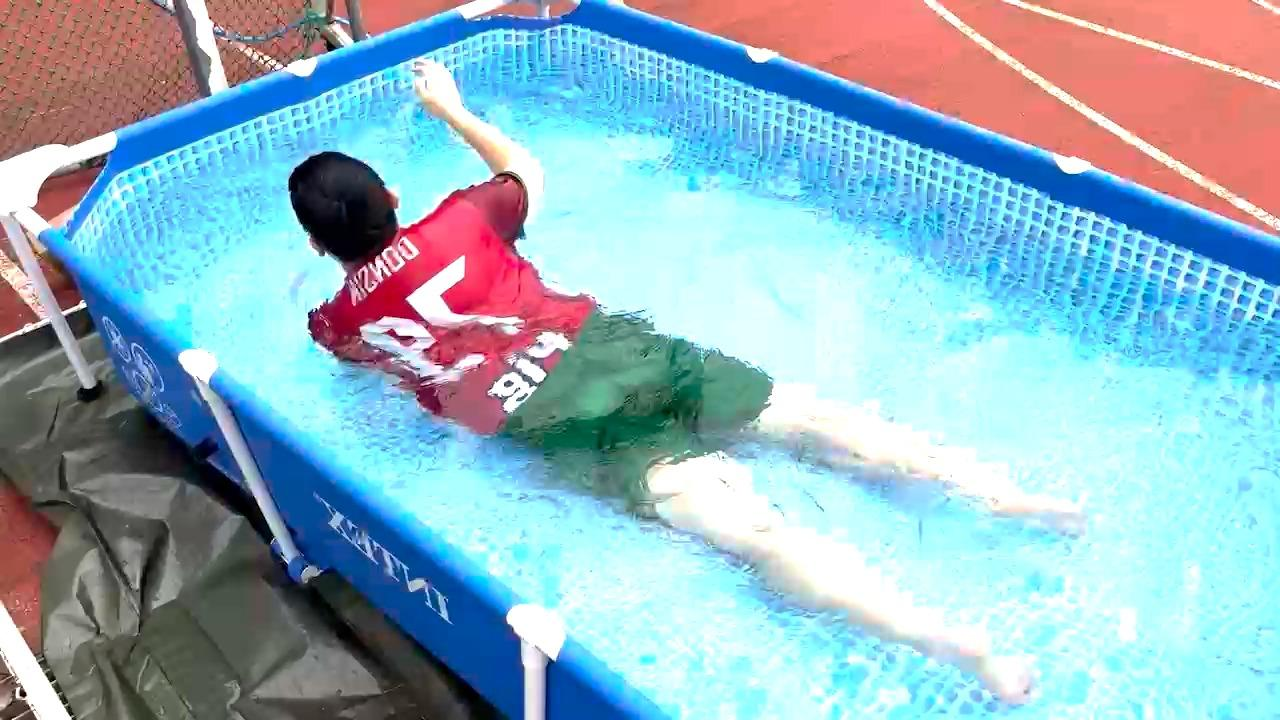Swimming: (227, 35, 1099, 674)
